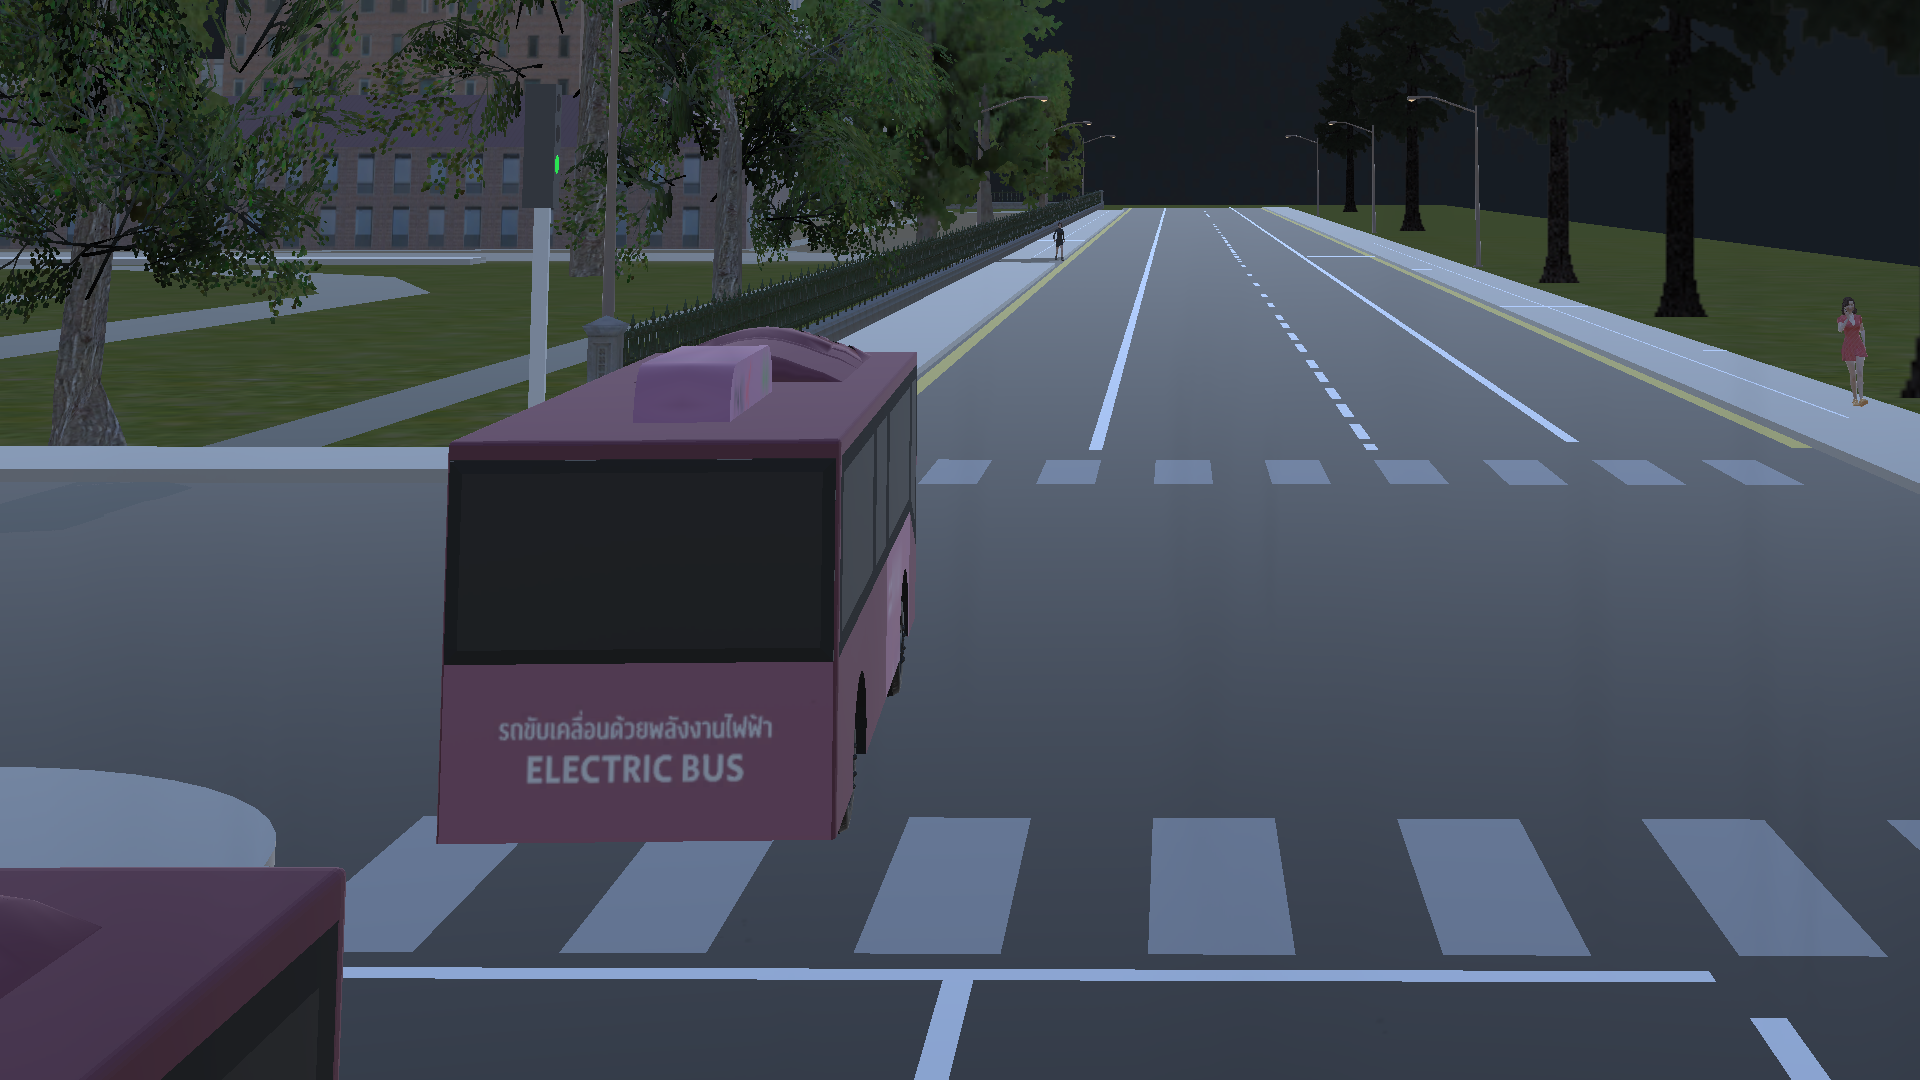pedestrian: (1830, 289, 1884, 416), (1045, 213, 1081, 269)
